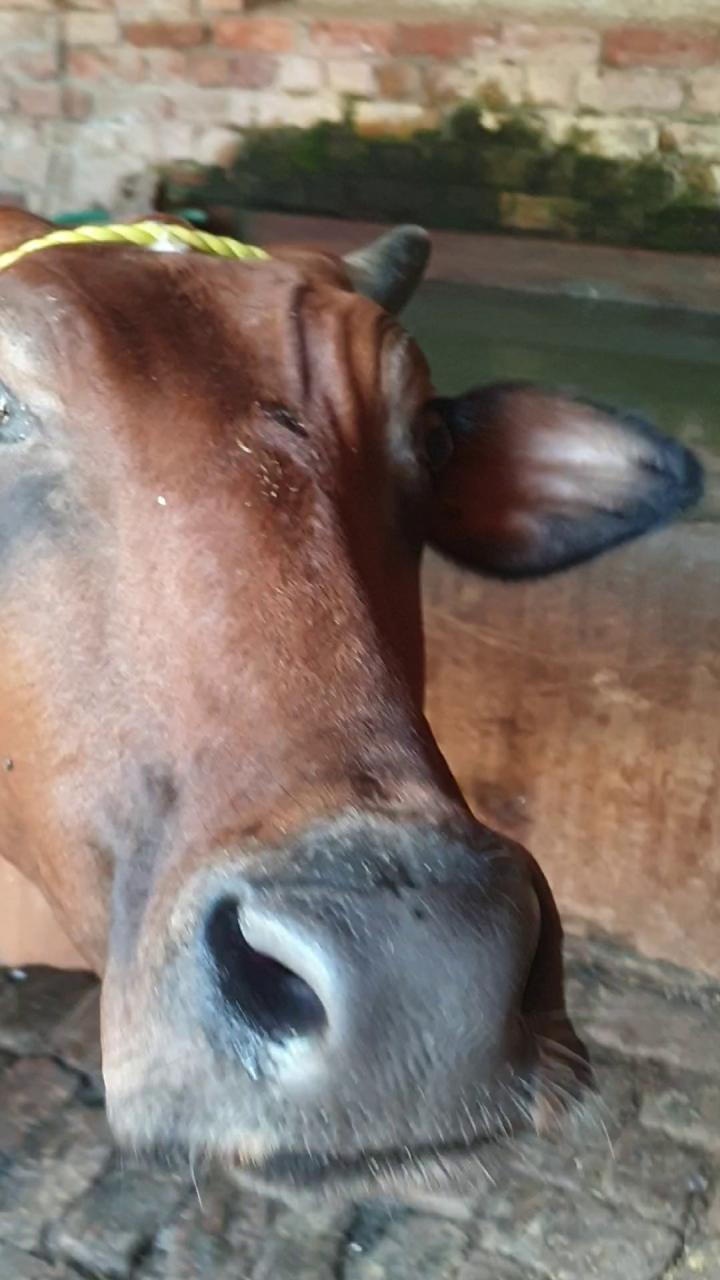cows: (0, 178, 518, 1166)
